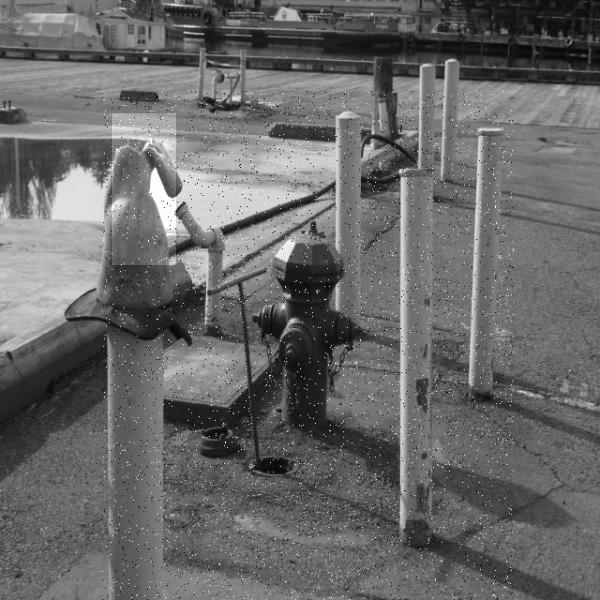crack: (112, 113, 176, 265)
